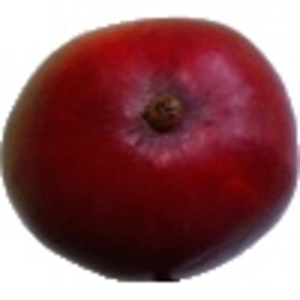manga: (1, 16, 300, 282)
